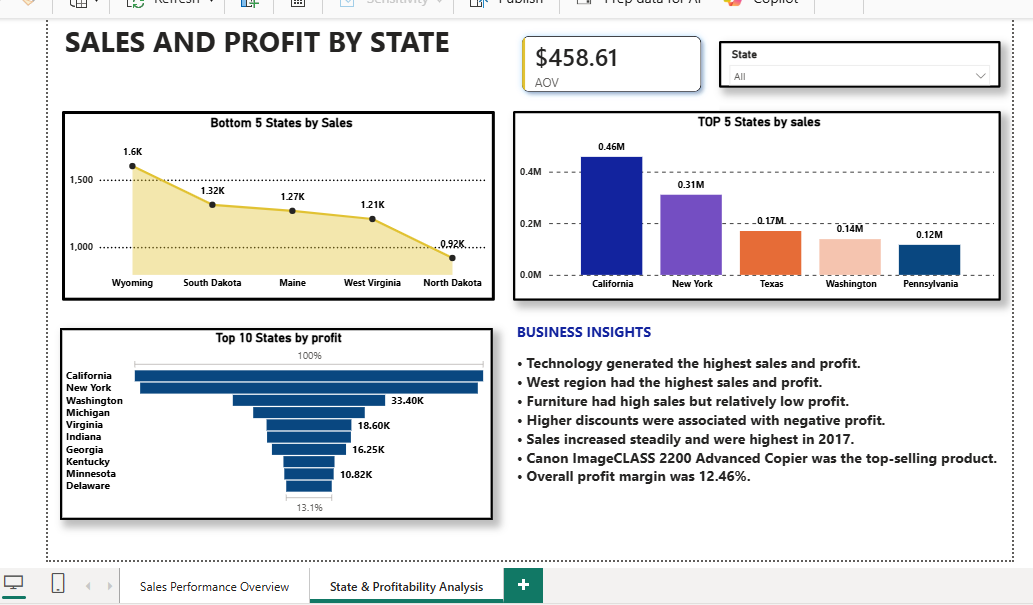

What the dashboard file says about the page in this screenshot:
{"tool":"powerbi","page":{"name":"State & Profitability Analysis","canvas":[1280,720],"ordinal":1},"visuals":[{"type":"lineChart","title":"Bottom 5 States  by Sales ","fields":{"Category":["Orders.State"],"Y":["Sum(Orders.Sales)"]},"box":[19,122.9,575.1,251.7],"z":0},{"type":"columnChart","title":"TOP 5 States  by Sales ","fields":{"Category":["Orders.State"],"Y":["Sum(Orders.Sales)"]},"box":[617.6,122.9,648.3,251.7],"z":1000},{"type":"funnel","title":"Top 10 States by profit ","fields":{"Category":["Orders.State"],"Y":["Sum(Orders.Profit)"]},"box":[16.1,411.2,575.1,254.6],"z":2000},{"type":"textbox","box":[16.8,0,601.4,92.4],"z":3000},{"type":"textbox","box":[618,398,648,268],"z":4000},{"type":"cardVisual","fields":{"Data":["Orders.AOV"]},"box":[605.6,0,286.3,122.5],"z":5000},{"type":"slicer","fields":{"Values":["Orders.State"]},"box":[891.9,30.3,374.4,61.9],"z":6000}]}

Visuals, with their boxes on the page's 1280x720 design canvas (x1, y1, x2, y2). These are canvas units, not pixel positions in the 1033x605 screenshot, which may show the page scaled, cropped or inside an application window:
"Bottom 5 States  by Sales " lineChart: box=[19, 123, 594, 375]
"TOP 5 States  by Sales " columnChart: box=[618, 123, 1266, 375]
"Top 10 States by profit " funnel: box=[16, 411, 591, 666]
textbox: box=[17, 0, 618, 92]
textbox: box=[618, 398, 1266, 666]
cardVisual - Orders.AOV: box=[606, 0, 892, 122]
slicer - Orders.State: box=[892, 30, 1266, 92]
